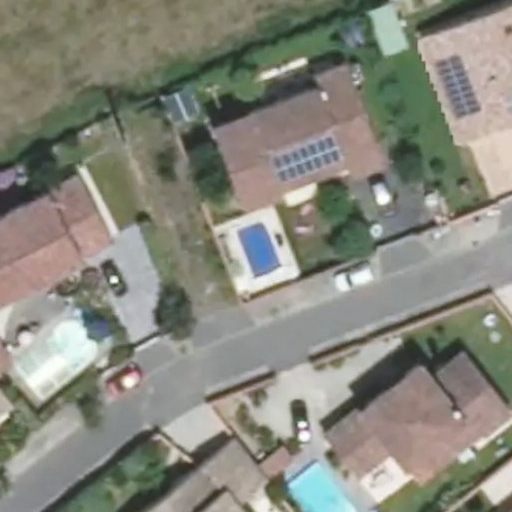pool: (231, 221, 280, 262)
